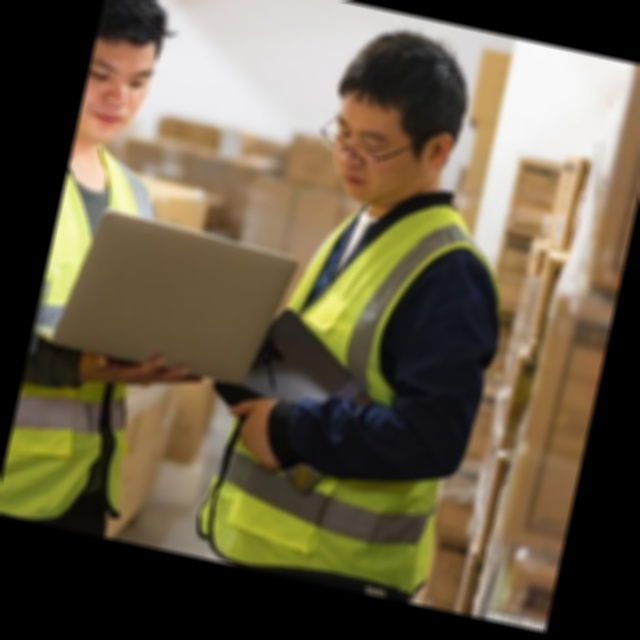Con_Chaleco: (215, 181, 510, 607)
Sin_Casco_Mascarrilla: (311, 20, 482, 217)
